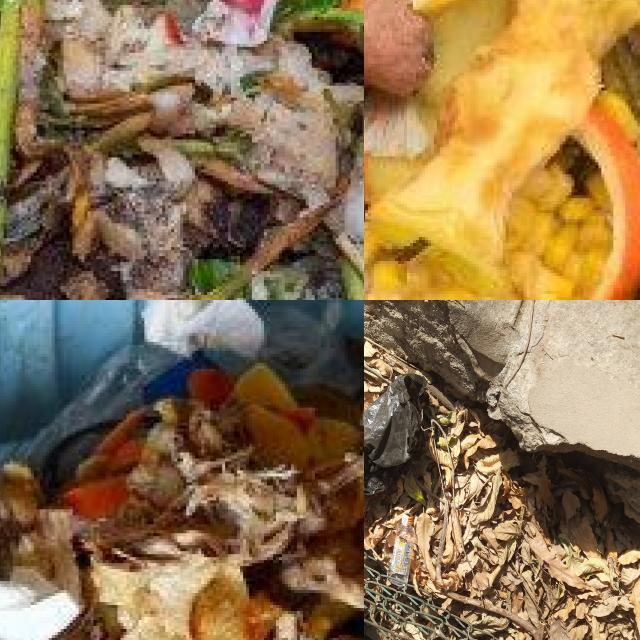Garbage: (0, 363, 364, 640), (364, 336, 640, 640), (364, 0, 640, 300)
Glass_bottle: (389, 515, 416, 587)
Plastic_Bag: (364, 374, 426, 493)
